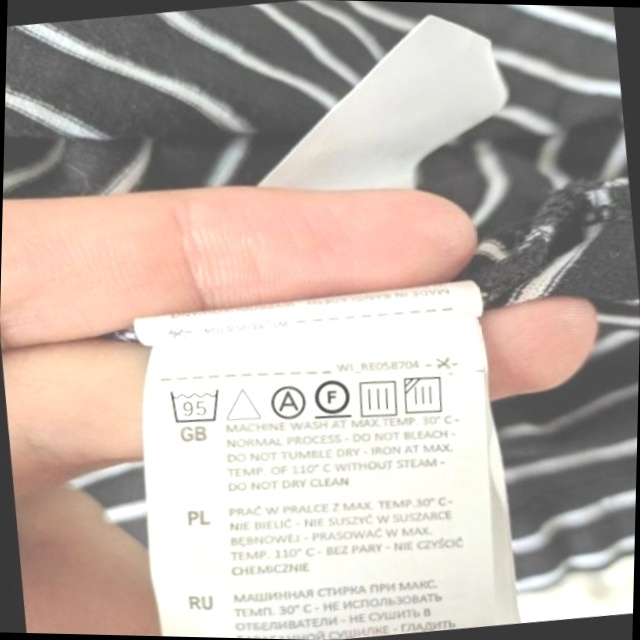95C: (165, 382, 226, 429)
bleach: (223, 380, 263, 426)
drip_dry: (354, 374, 403, 421)
drip_dry_in_shade: (401, 370, 451, 420)
dry_clean: (265, 381, 309, 423)
dry_clean_petrol_only: (310, 372, 355, 423)
